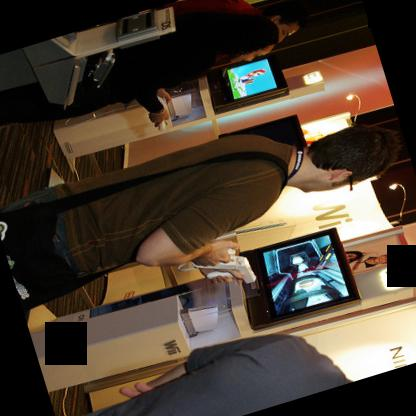handbag: (0, 151, 287, 313)
